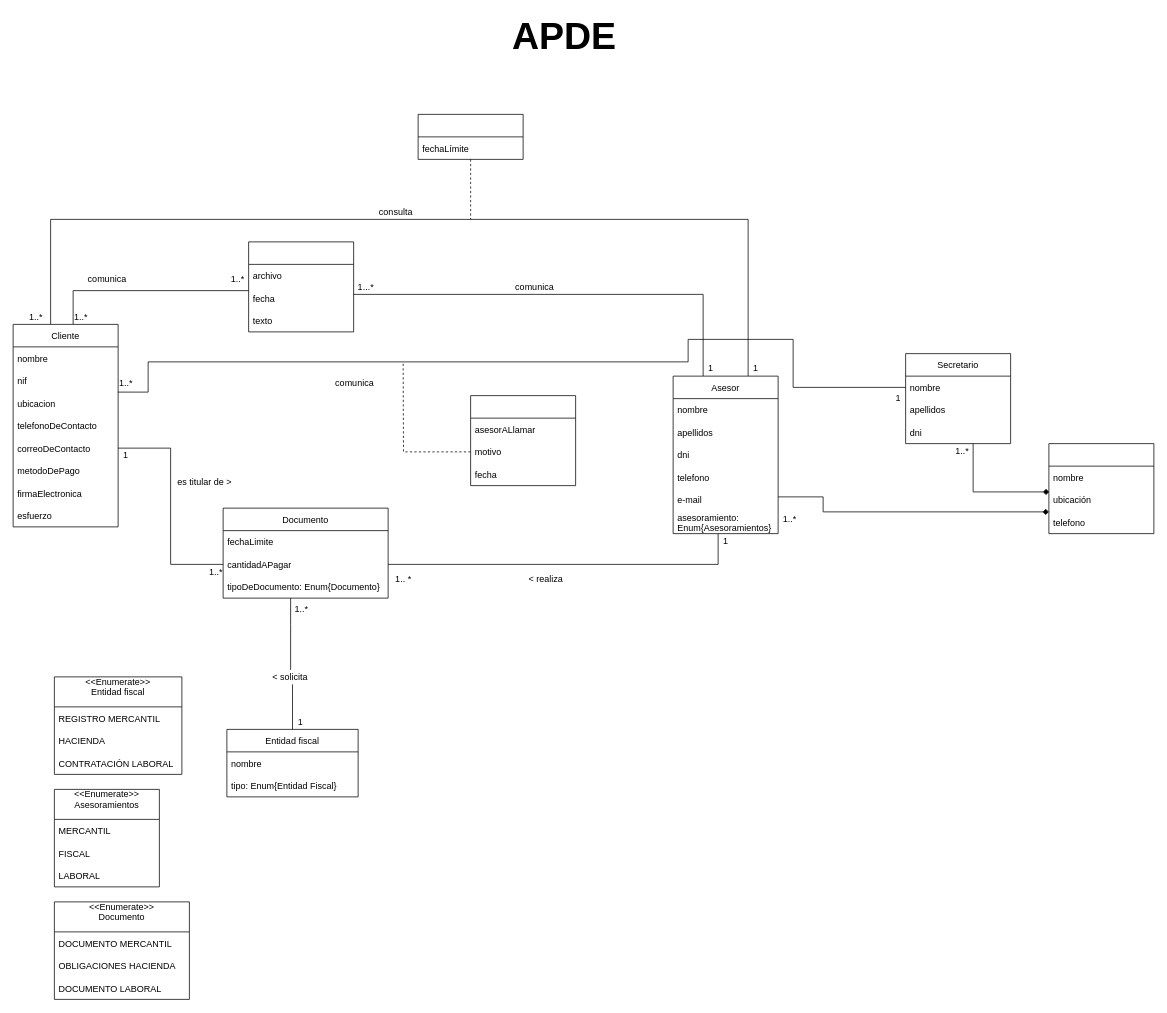
This 1167x1013 diagram has some shape labels left out. Here are the shapes that lost their labels. From the top down, the box of each, then its label:
(417, 114, 523, 159): Encargo
(248, 241, 354, 332): Correo electronico
(470, 395, 576, 486): Llamadas pendientes
(1048, 443, 1154, 534): Asesoria
